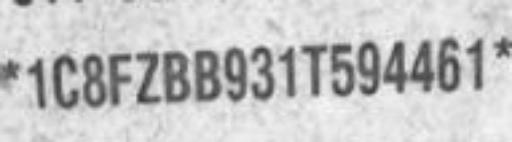letter: (380, 34, 410, 100), (434, 32, 464, 95), (160, 47, 192, 105), (50, 50, 80, 110), (408, 35, 436, 98), (326, 39, 356, 97), (192, 47, 222, 103), (80, 52, 110, 107), (300, 39, 328, 97), (134, 47, 162, 105), (356, 37, 382, 97), (222, 42, 248, 102), (249, 42, 275, 100), (24, 55, 50, 112), (107, 50, 133, 106), (463, 36, 487, 92), (276, 42, 296, 98)
